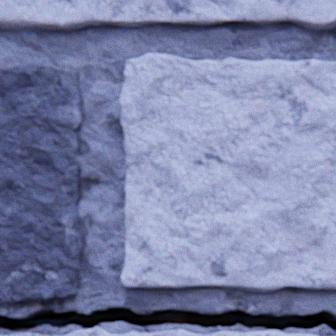brick: (120, 54, 335, 292), (0, 64, 86, 304), (0, 0, 335, 31), (65, 326, 315, 335), (0, 332, 48, 335)
crack: (0, 305, 335, 334)
